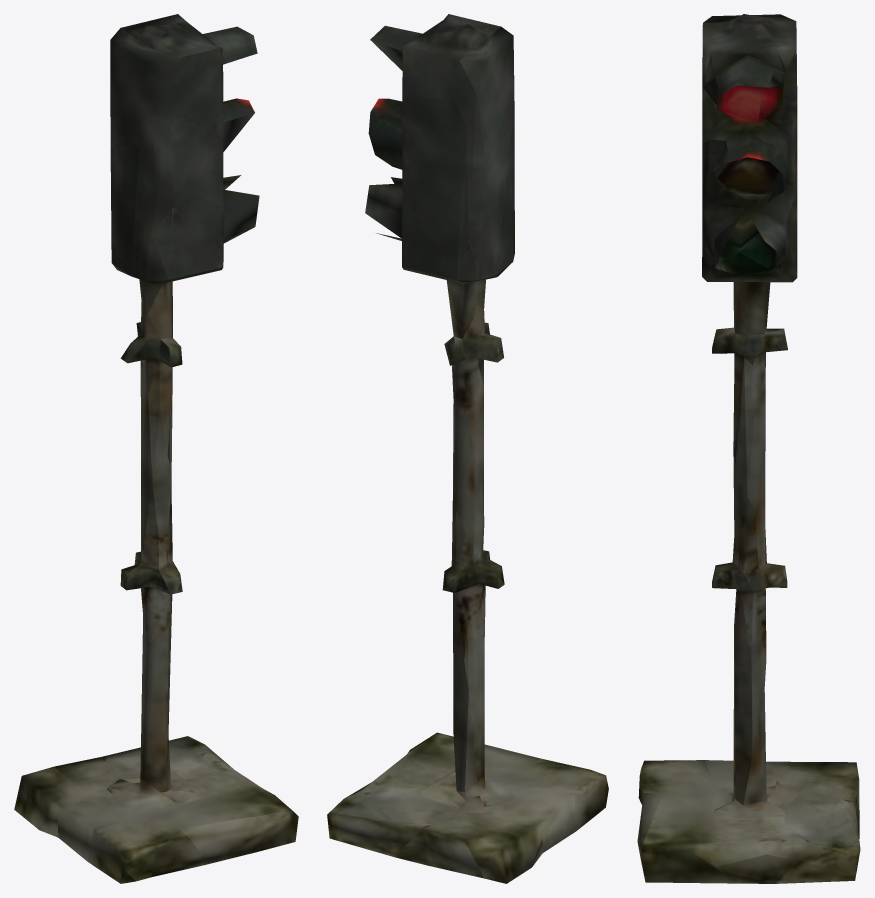
The model's file is lampu_merah_lod2.glb.
3 views of the same model, side by side, from view 1: azimuth 30°, elevation 25°; view 2: azimuth 150°, elevation 25°; view 3: azimuth 270°, elevation 25° (orthographic). The views are drawn at different scales.
Visible parts, largest first — view 1: tripo_node_77a6d959; view 2: tripo_node_77a6d959; view 3: tripo_node_77a6d959.
Part boxes in pixels (<box>): tripo_node_77a6d959: <box>14,14,298,883</box>; tripo_node_77a6d959: <box>327,14,608,883</box>; tripo_node_77a6d959: <box>637,14,860,883</box>.
Bounding box in the file's own units: 23.97 × 99.86 × 24.56.
Materials: 1 (1 with a texture image).
